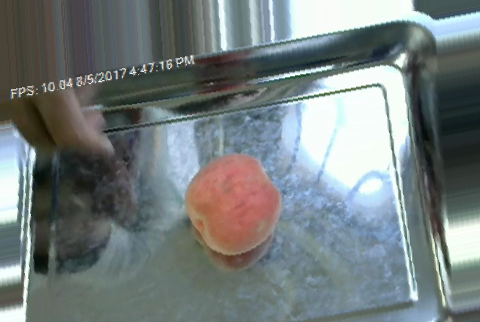Peach: (187, 154, 280, 254)
